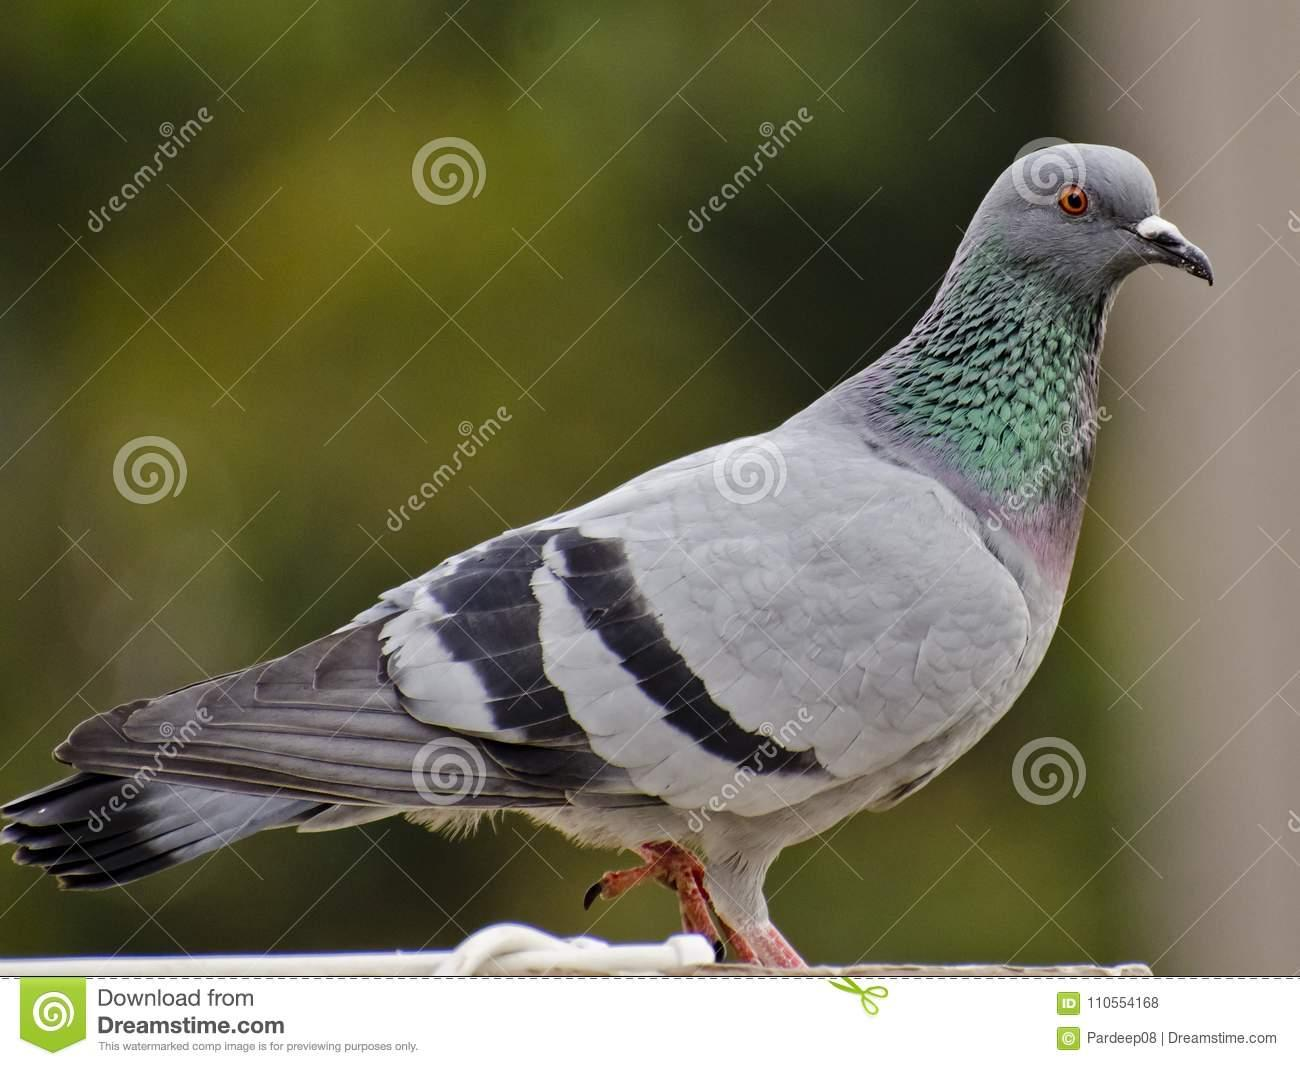Flying Rat: (23, 120, 1196, 937)
